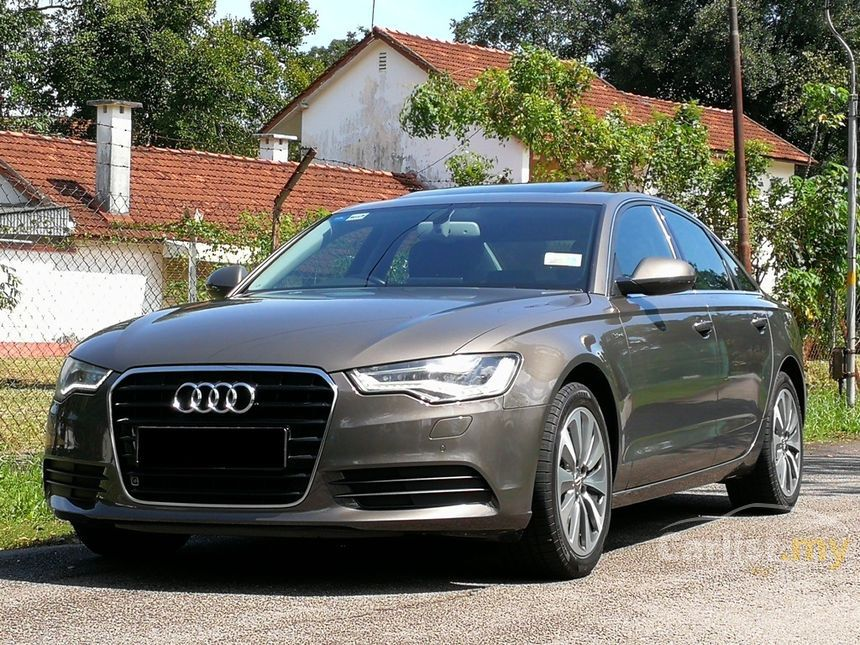audi: (38, 172, 806, 584)
